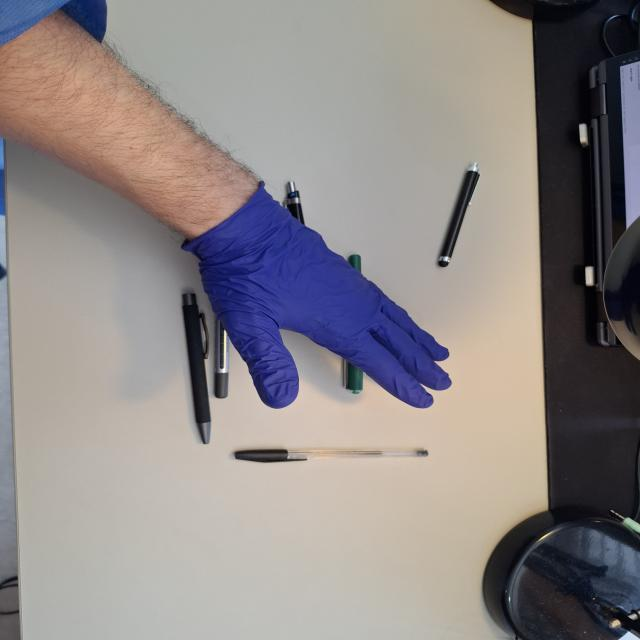glove_on: (178, 179, 456, 410)
